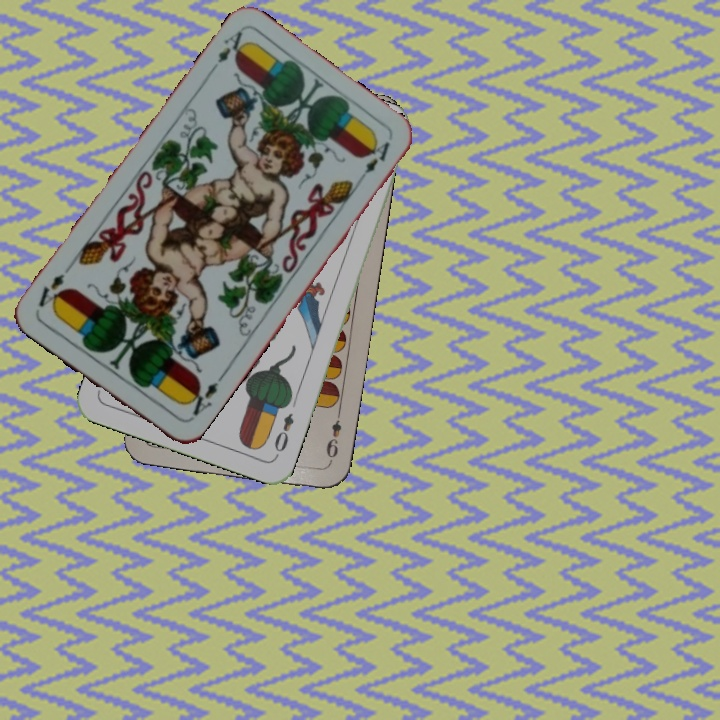E9: (322, 407, 344, 466)
EA: (204, 27, 251, 77), (181, 372, 225, 424)
EO: (270, 409, 297, 460)
